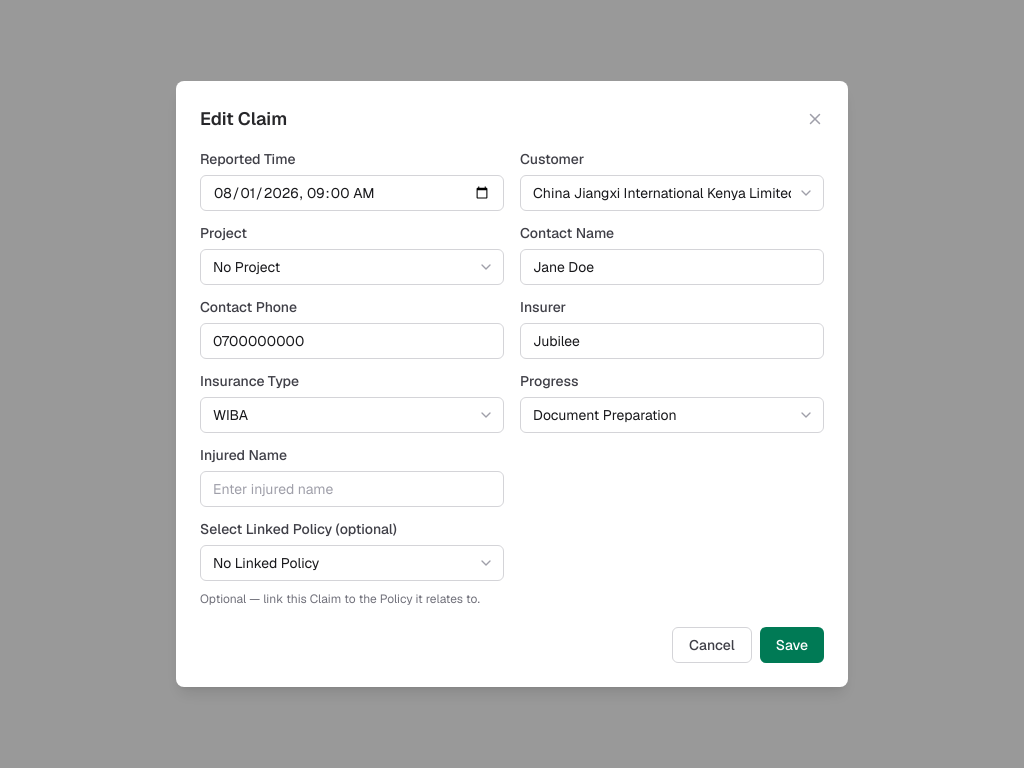
Scenario: NonMotorClaimEditModal — WIBA Injured Name › Case 6: saving a historical null-Injured-Name WIBA claim without filling it in shows the required error and does not submit
Click the button "Save" at [792, 645], box x1=760 y1=627 x2=824 y2=663
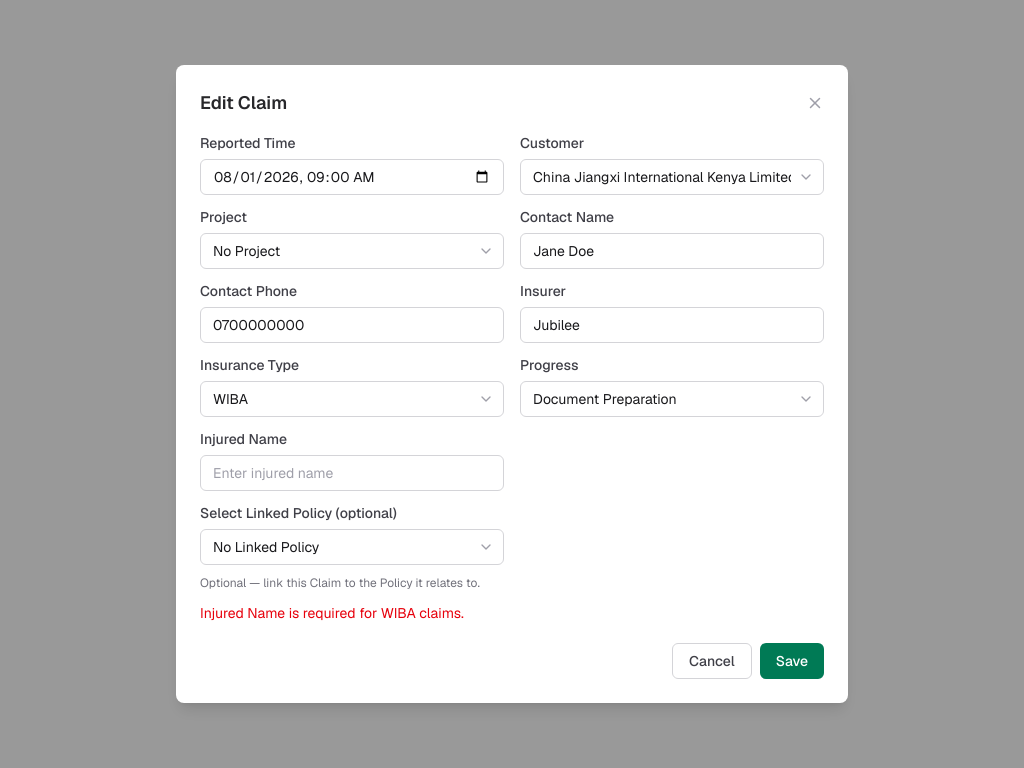
Result: the text "Injured Name is required for WIBA claims." is shown at x1=200 y1=604 x2=464 y2=622
